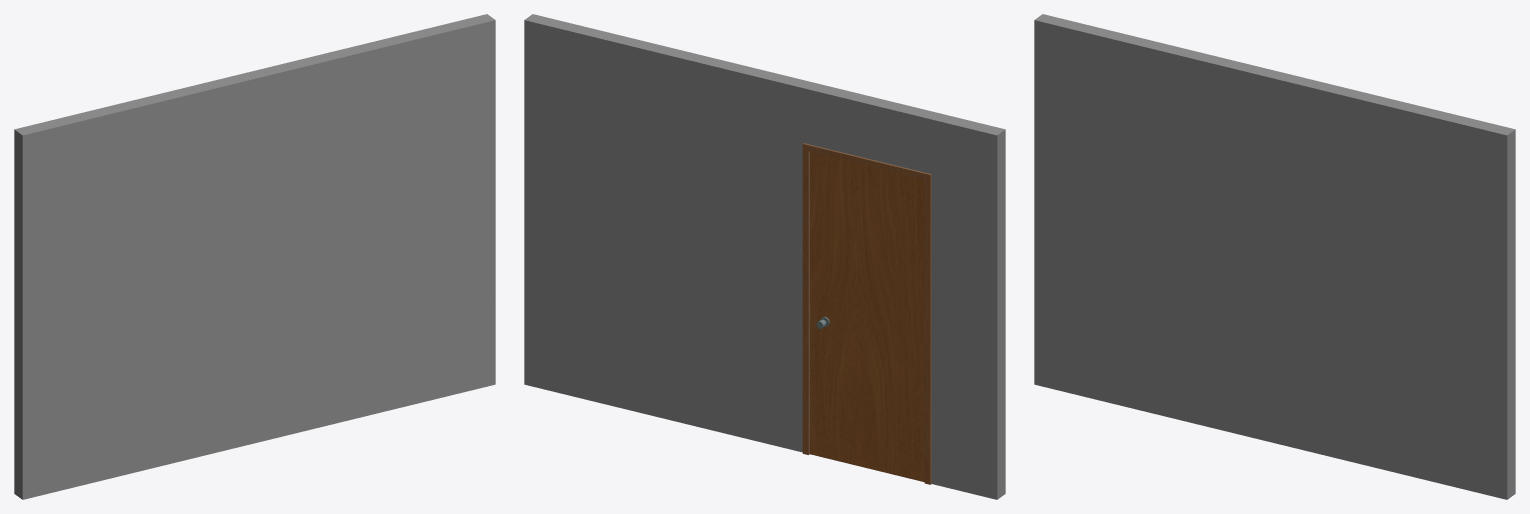
Rendered from room_wall_front.fbx.
The picture shows the model from 3 angles, left to right: view 1: azimuth 30°, elevation 25°; view 2: azimuth 150°, elevation 25°; view 3: azimuth 330°, elevation 25°; orthographic projection.
Parts seen in each view (by area): view 1: room_wall_front; view 2: room_wall_front; view 3: room_wall_front.
Part boxes in pixels (bbox=[...]): room_wall_front: bbox=[14, 14, 495, 499]; room_wall_front: bbox=[524, 14, 1005, 499]; room_wall_front: bbox=[1034, 14, 1515, 499].
Size of the model in its own units: 326 by 240 by 16.5.
1 material, 1 textured.
